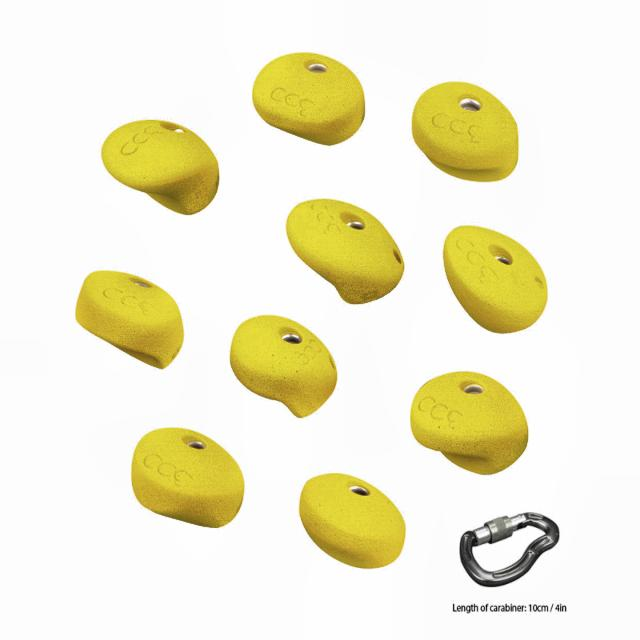Hold: (408, 372, 530, 478), (286, 198, 405, 305), (442, 224, 550, 335), (100, 119, 219, 217), (130, 428, 246, 528), (410, 80, 521, 184), (252, 51, 368, 148), (230, 314, 338, 418), (74, 271, 186, 368), (299, 473, 405, 568)
